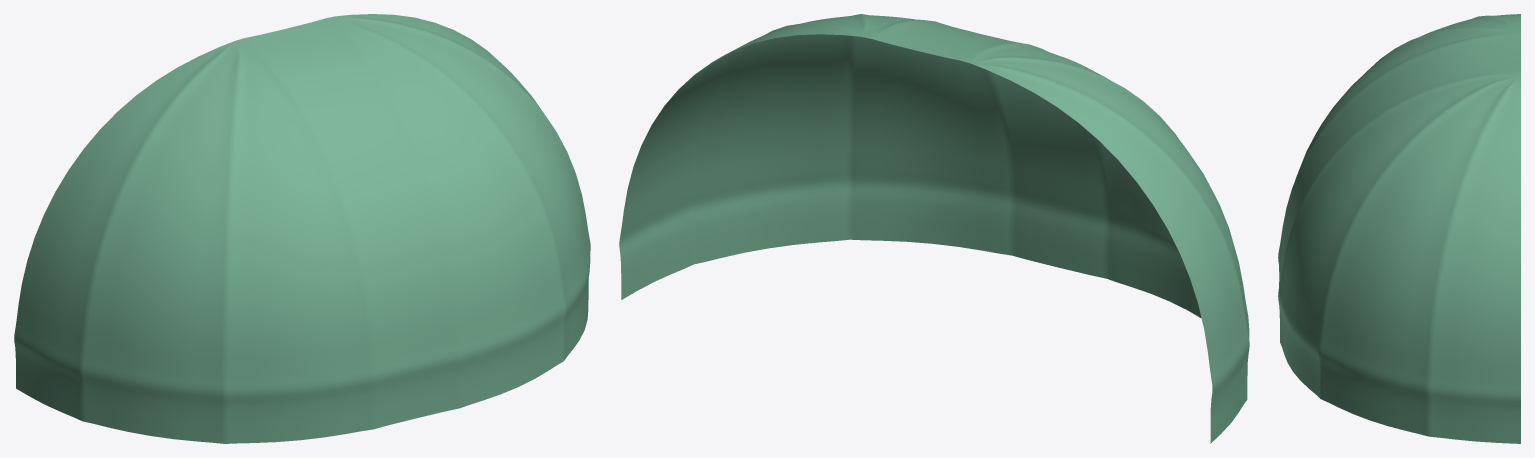
Rendered from object_B1_Awning.glb.
3 views of the same model, side by side, from view 1: azimuth 30°, elevation 25°; view 2: azimuth 150°, elevation 25°; view 3: azimuth 270°, elevation 25° (orthographic). The views are drawn at different scales.
Visible parts, largest first — view 1: B1 Awning; view 2: B1 Awning; view 3: B1 Awning.
Part boxes in pixels (bbox=[...]): B1 Awning: bbox=[14, 14, 590, 443]; B1 Awning: bbox=[619, 14, 1249, 443]; B1 Awning: bbox=[1278, 14, 1520, 443].
Size of the model in its own units: 2.05 by 1.07 by 0.867.
